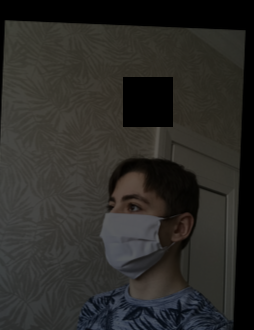with_mask: (98, 186, 163, 283)
